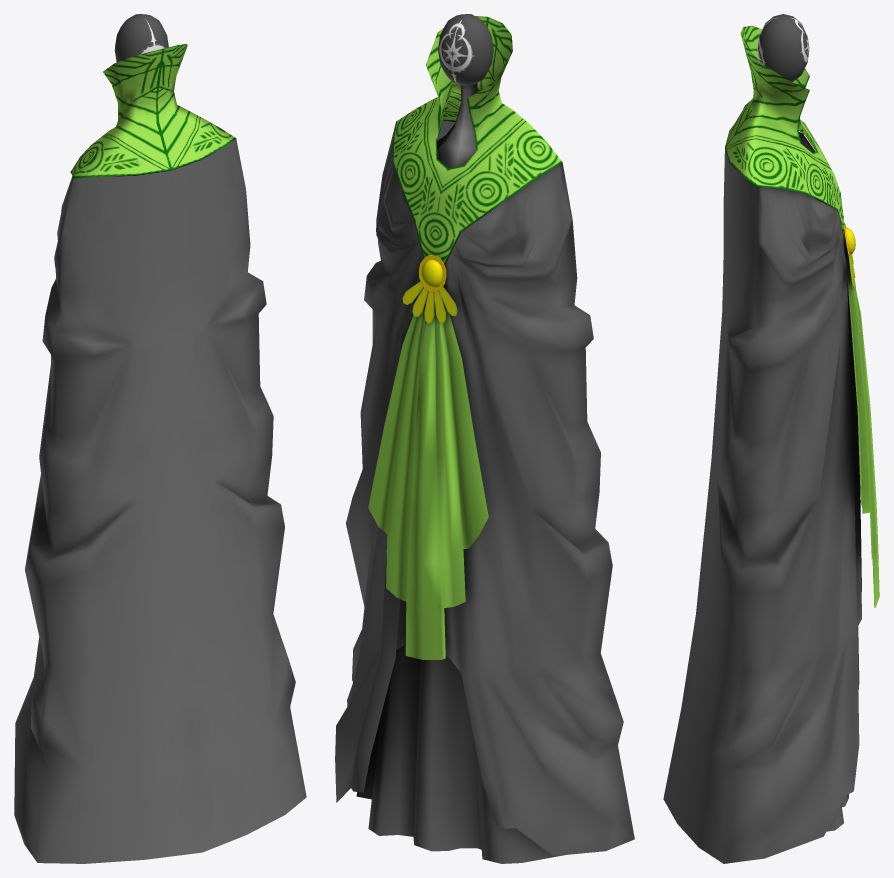
File: maya_Missionary.fbx
The picture shows the model from 3 angles, left to right: view 1: azimuth 30°, elevation 25°; view 2: azimuth 150°, elevation 25°; view 3: azimuth 270°, elevation 25°; orthographic projection. The views are drawn at different scales.
Parts seen in each view (by area): view 1: maya_Missionary; view 2: maya_Missionary; view 3: maya_Missionary.
Part boxes in pixels (left/top/right/bottom): maya_Missionary: left=14, top=14, right=306, bottom=863; maya_Missionary: left=335, top=14, right=634, bottom=863; maya_Missionary: left=663, top=14, right=879, bottom=863.
Size of the model in its own units: 409 by 1151 by 288.
